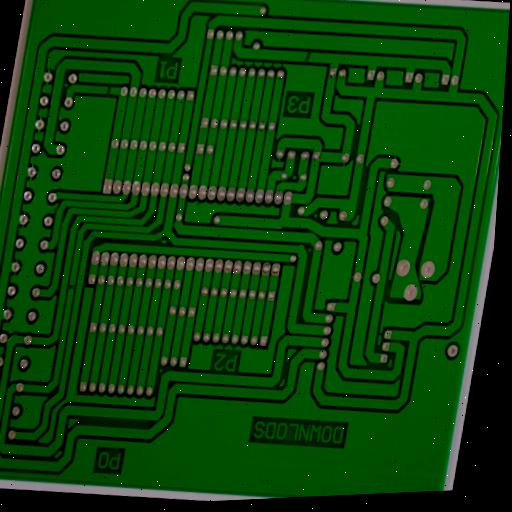open_circuit: (300, 48, 316, 64), (102, 83, 115, 98), (65, 280, 78, 293)
